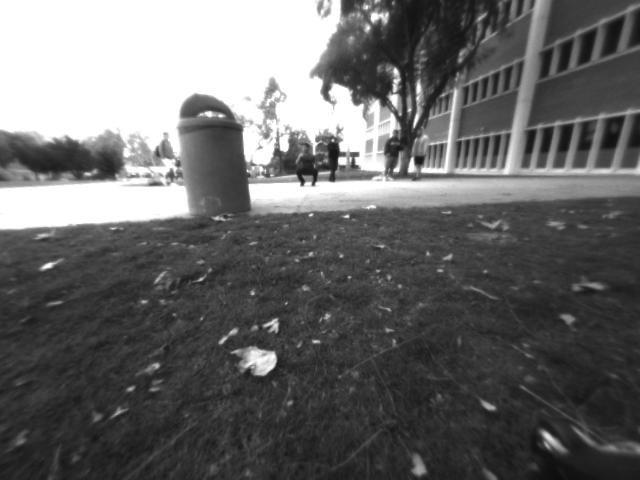trashcan: (170, 86, 258, 227)
